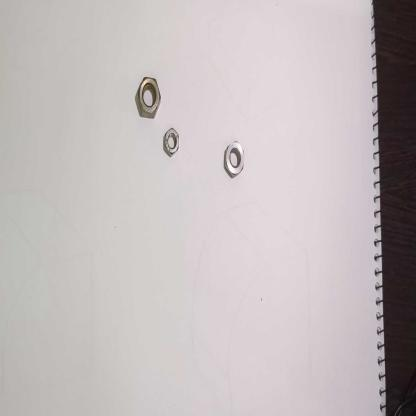NUTS: (136, 73, 162, 123), (223, 138, 247, 178), (162, 126, 184, 161)
